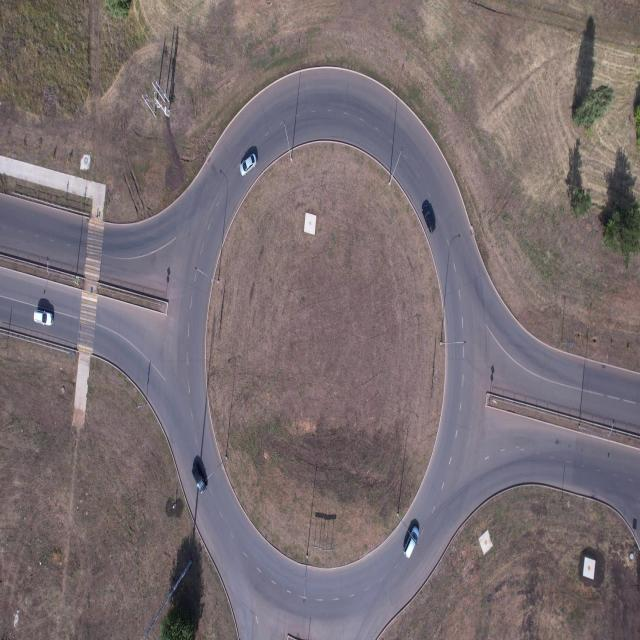Car: (398, 505, 426, 583), (418, 186, 445, 246), (25, 291, 59, 331), (235, 140, 269, 179)
